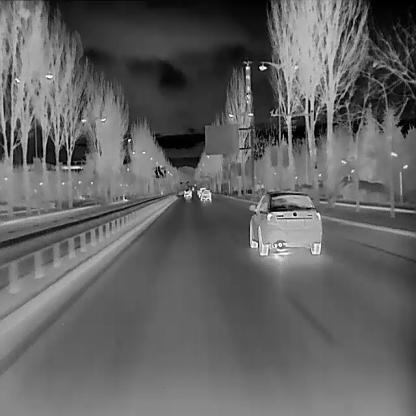car: (249, 189, 323, 255), (199, 188, 212, 201), (199, 186, 206, 198), (183, 188, 192, 197), (191, 185, 194, 190), (193, 182, 196, 185)
